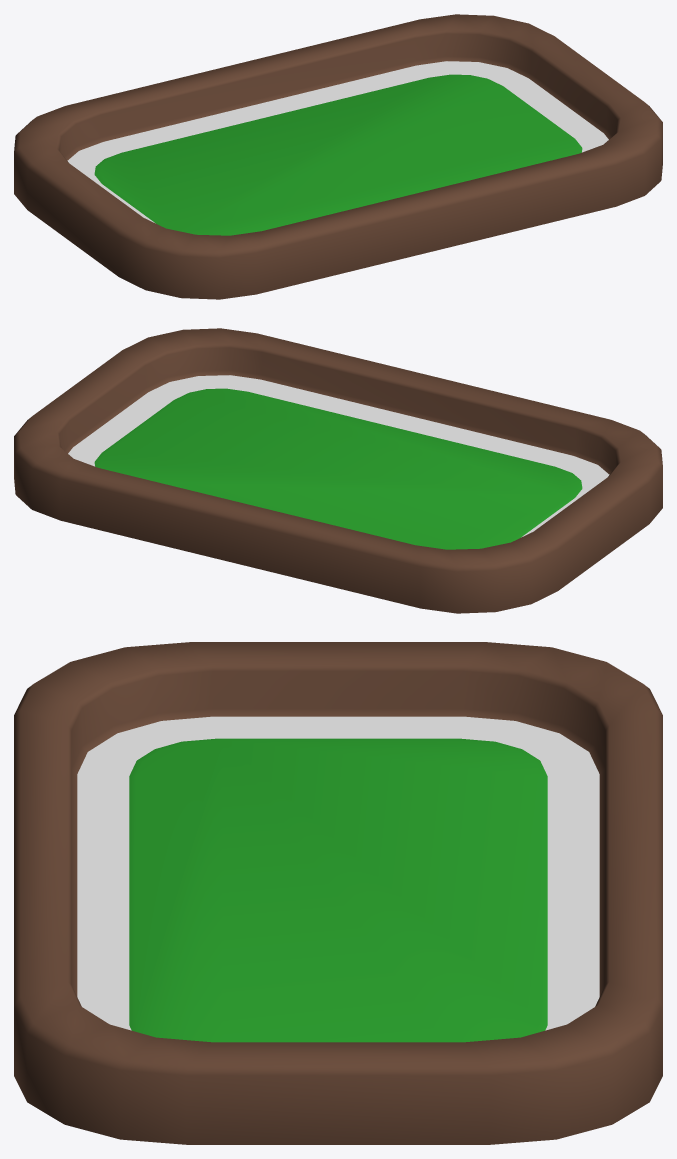
File: Table 1.fbx
The picture shows the model from 3 angles, top to bottom: view 1: azimuth 30°, elevation 25°; view 2: azimuth 150°, elevation 25°; view 3: azimuth 270°, elevation 25°; orthographic projection. The views are drawn at different scales.
Parts seen in each view (by area): view 1: Table; view 2: Table; view 3: Table.
Part boxes in pixels (<box>): Table: <box>14,14,662,299</box>; Table: <box>14,328,662,613</box>; Table: <box>14,642,662,1144</box>.
Bounding box in the file's own units: 13745 × 1146 × 8782.
